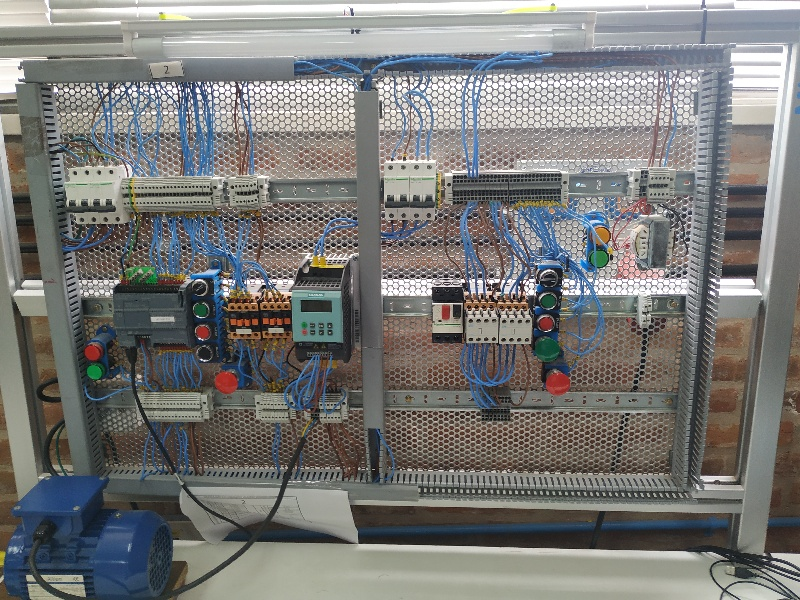Tablero 2: (31, 73, 705, 498)
